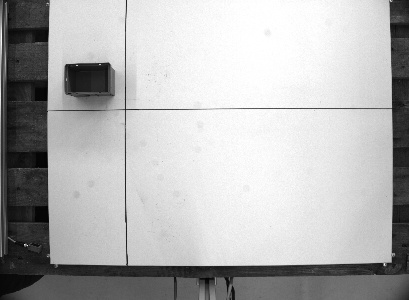kltxs: (61, 60, 119, 99)
